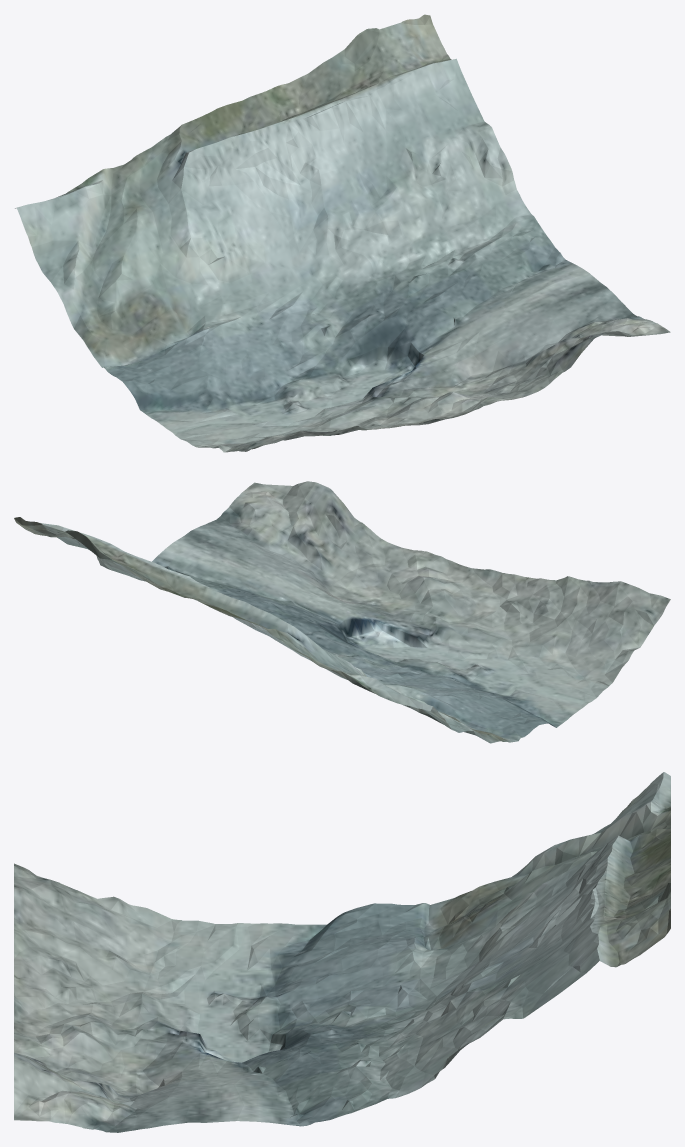
3 renders of one model, top to bottom at view 1: azimuth 30°, elevation 25°; view 2: azimuth 150°, elevation 25°; view 3: azimuth 270°, elevation 25°, orthographic. The views are drawn at different scales.
Visible parts, largest first — view 1: Plane; view 2: Plane; view 3: Plane.
Part boxes in pixels (x1,y1,x2,y2): Plane: [15, 14, 670, 452]; Plane: [14, 481, 670, 743]; Plane: [14, 772, 670, 1132].
Bounding box in the file's own units: 0.6 × 0.2803 × 0.6.
1 material, 1 textured.
